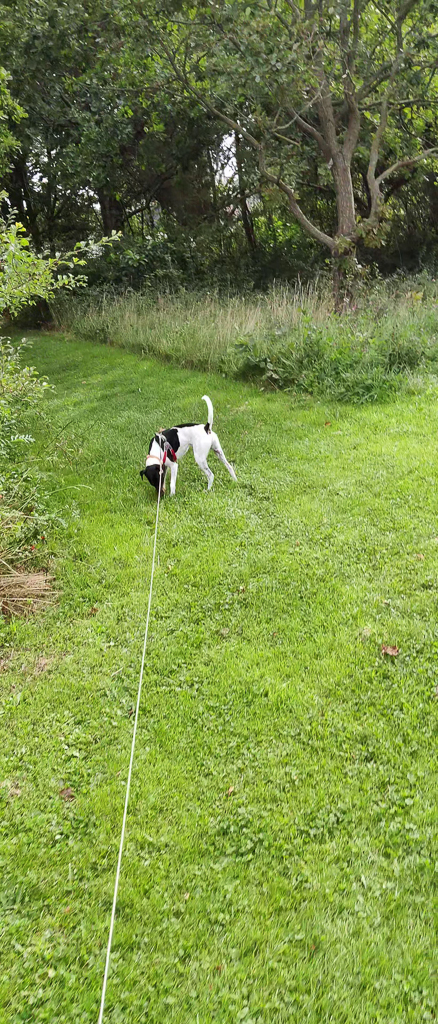Dog: (127, 389, 245, 504)
